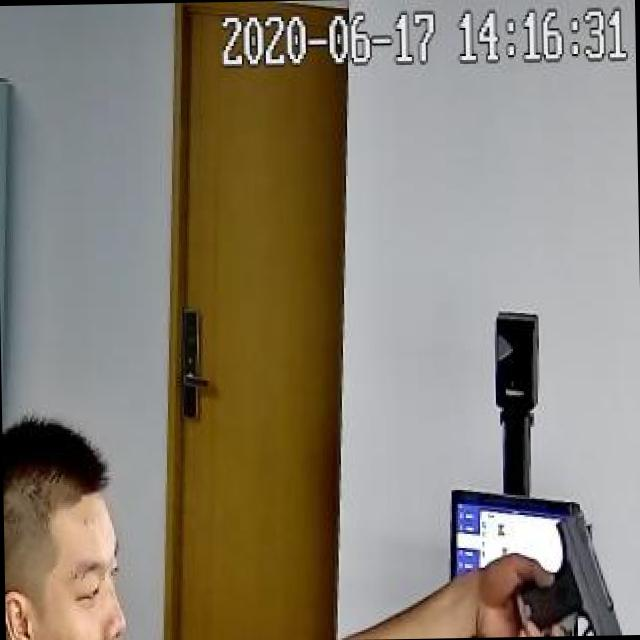Guns: (501, 502, 640, 636)
